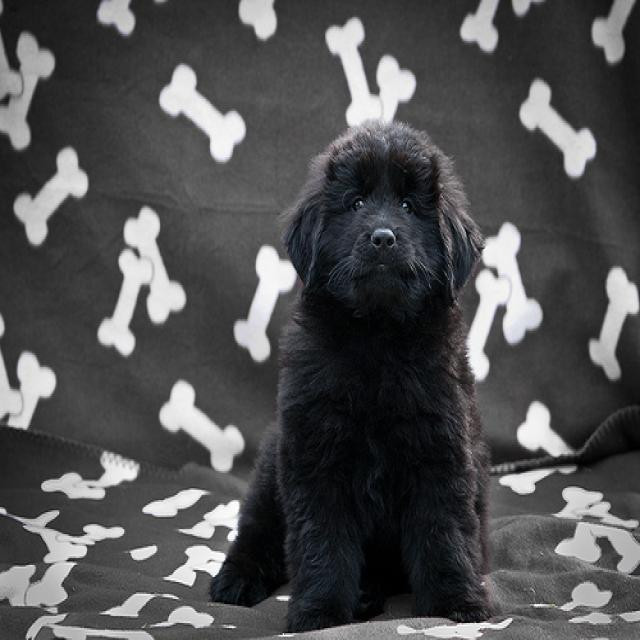dog-newfoundland: (204, 108, 516, 637)
